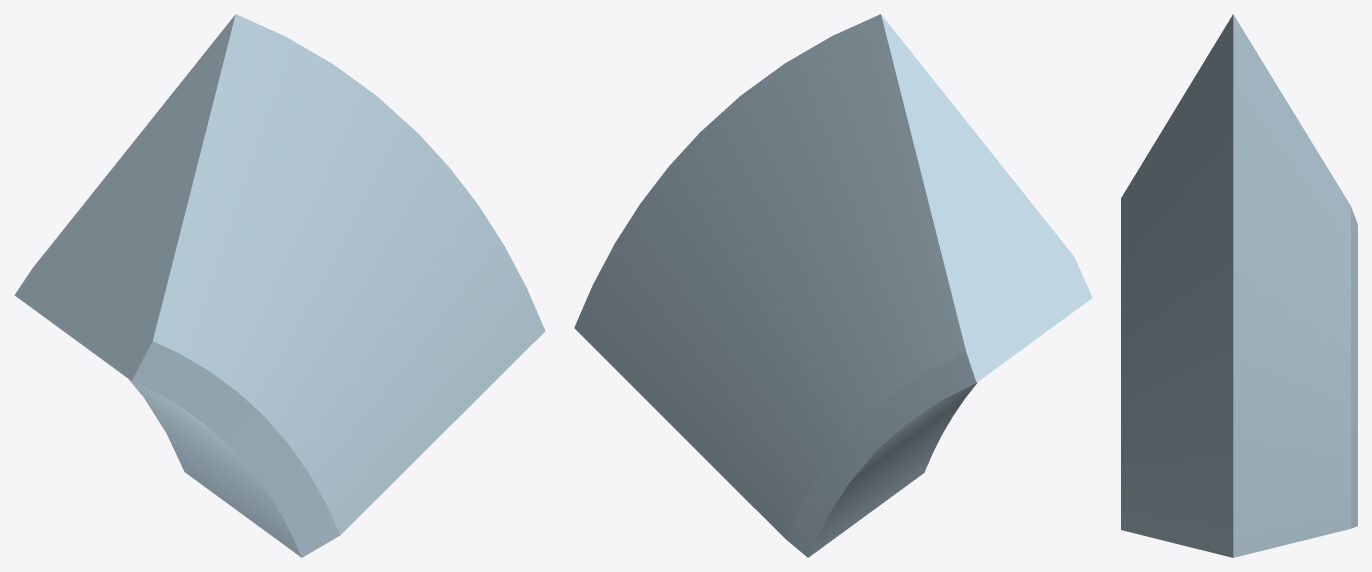
Rendered from Sub_4_Cell_1_1.gltf.
3 views of the same model, side by side, from view 1: azimuth 30°, elevation 25°; view 2: azimuth 150°, elevation 25°; view 3: azimuth 270°, elevation 25° (orthographic).
Parts seen in each view (by area): view 1: Sub_4_Cell_1_1; view 2: Sub_4_Cell_1_1; view 3: Sub_4_Cell_1_1.
Part boxes in pixels (x1,y1,x2,y2): Sub_4_Cell_1_1: (14, 14, 545, 557); Sub_4_Cell_1_1: (574, 14, 1092, 557); Sub_4_Cell_1_1: (1121, 14, 1357, 557).
Size of the model in its own units: 0.0843 by 0.087 by 0.0369.
